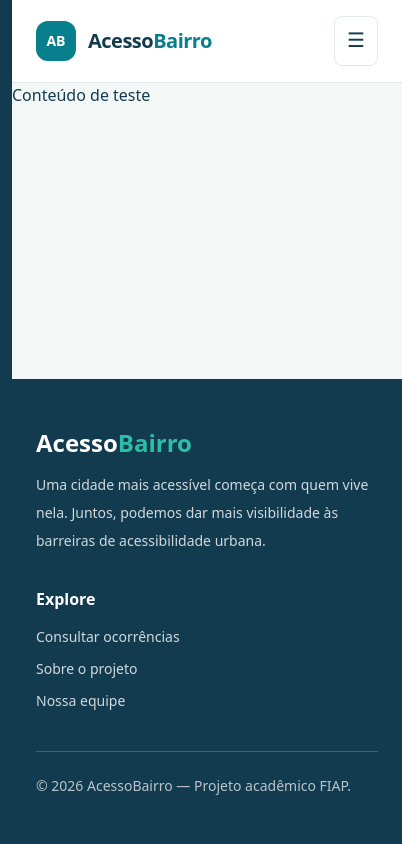
Layout e navegação › navega pelo menu mobile e fecha o menu
This screenshot has width=402, height=844.
Click the button named "abrir menu": (356, 41) [334,16,378,66]
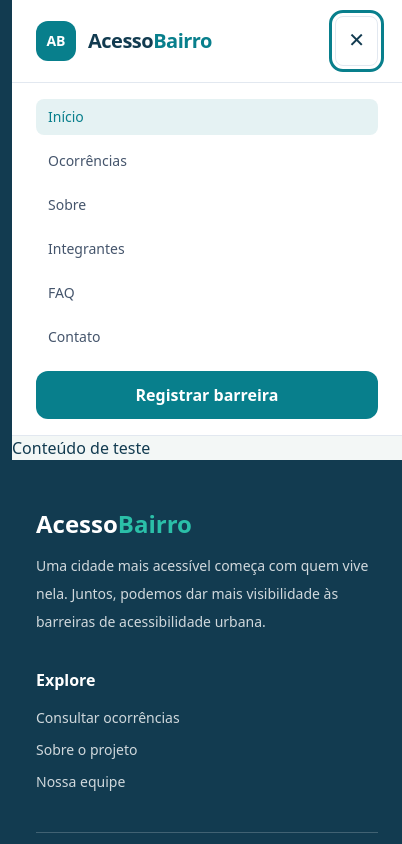
Click the link "FAQ": (61, 292) [48,283,75,302]
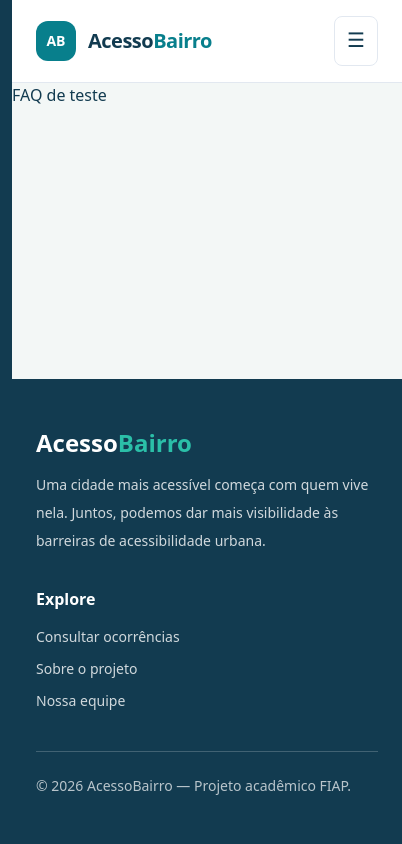
Now the heading "FAQ de teste" is shown, box [12,84,107,106]
